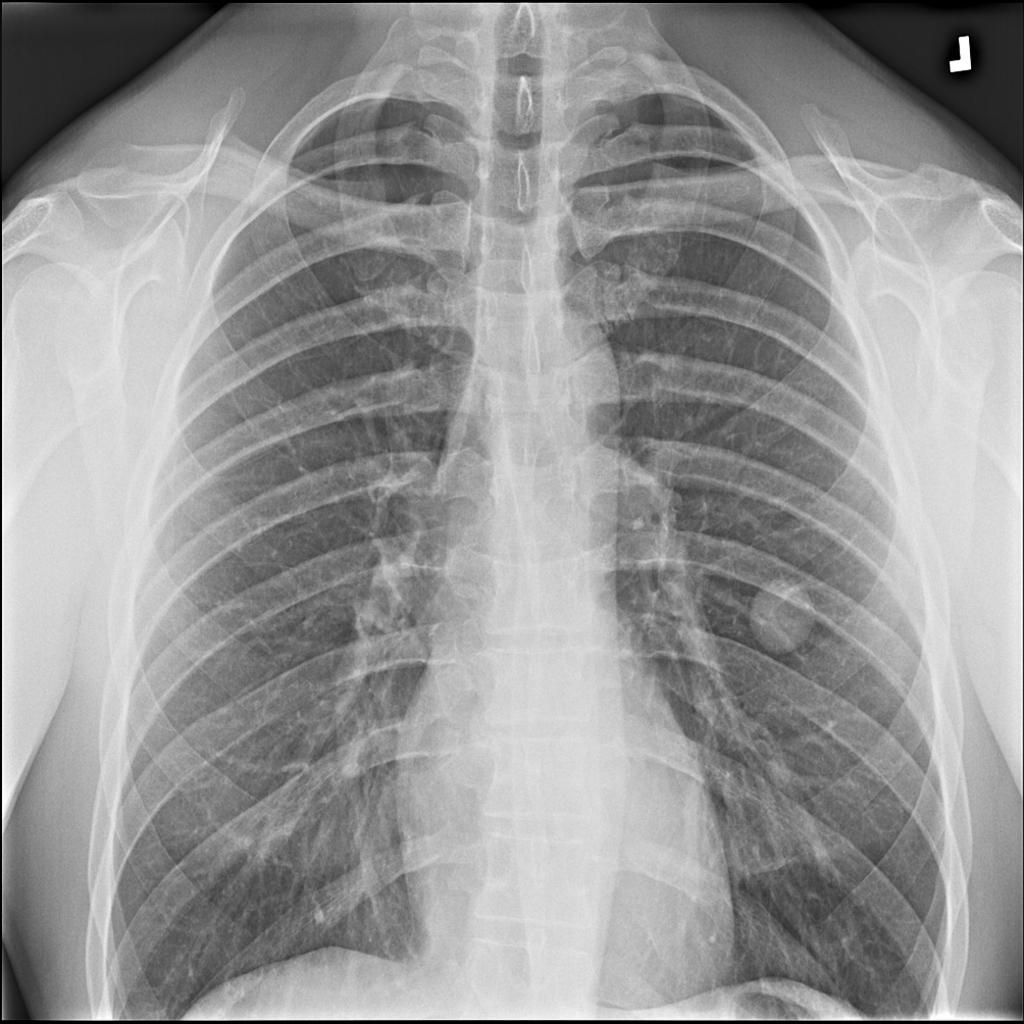Nodule: (745, 569, 829, 658)
